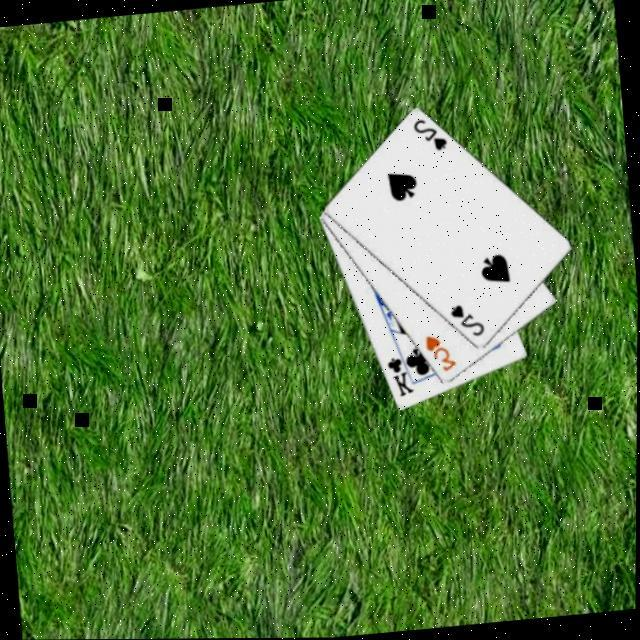2S: (411, 113, 452, 156), (449, 299, 490, 340)
3H: (423, 330, 462, 375)
KC: (385, 345, 420, 400)
